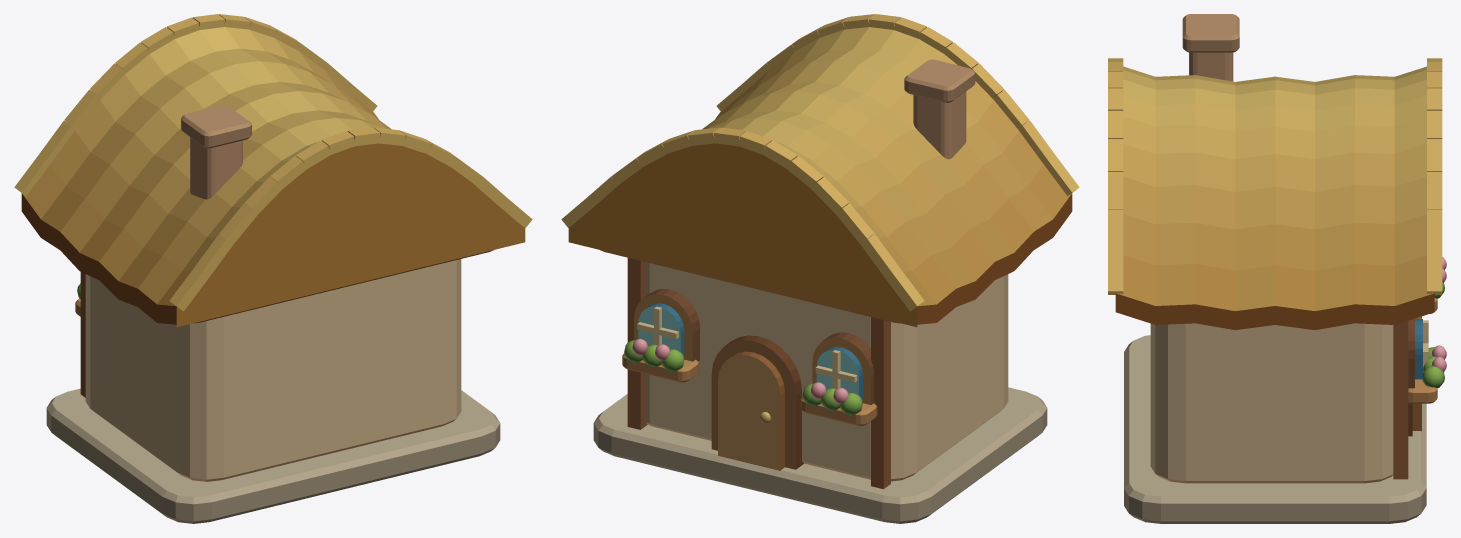
Rendered from Origin_Fairytale_Cottage.glb.
3 renders of one model, left to right at view 1: azimuth 30°, elevation 25°; view 2: azimuth 150°, elevation 25°; view 3: azimuth 270°, elevation 25°, orthographic. The views are drawn at different scales.
Parts seen in each view (by area): view 1: Origin_Fairytale_Cottage; view 2: Origin_Fairytale_Cottage; view 3: Origin_Fairytale_Cottage.
Part boxes in pixels (x1,y1,x2,y2): Origin_Fairytale_Cottage: (14,14,532,523); Origin_Fairytale_Cottage: (561,14,1079,523); Origin_Fairytale_Cottage: (1108,14,1446,523).
Size of the model in its own units: 3.63 by 3.54 by 2.91.
